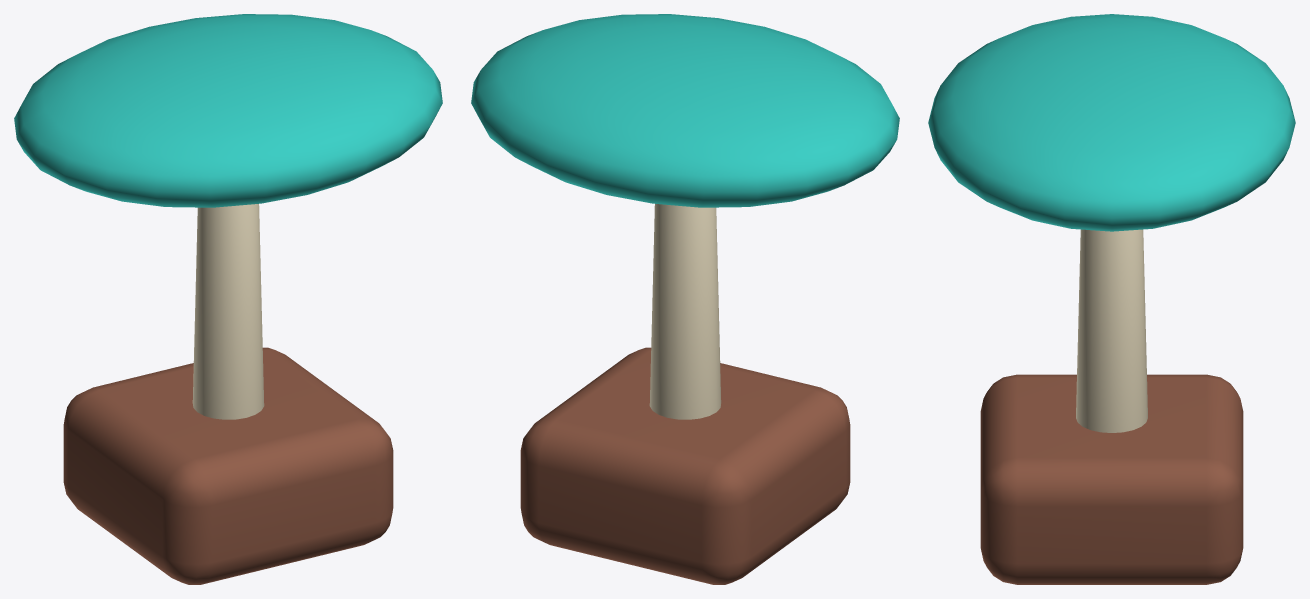
File: radar.runtime.gltf
3 views of the same model, side by side, from view 1: azimuth 30°, elevation 25°; view 2: azimuth 150°, elevation 25°; view 3: azimuth 270°, elevation 25° (orthographic).
Visible parts, largest first — view 1: Radar base; view 2: Radar base; view 3: Radar base.
Boxes of the visible parts, box(x1,y1,x2,y2) form: Radar base: box(14, 14, 442, 584); Radar base: box(471, 14, 899, 584); Radar base: box(928, 14, 1295, 584).
Size of the model in its own units: 0.86 by 0.99 by 0.7.
